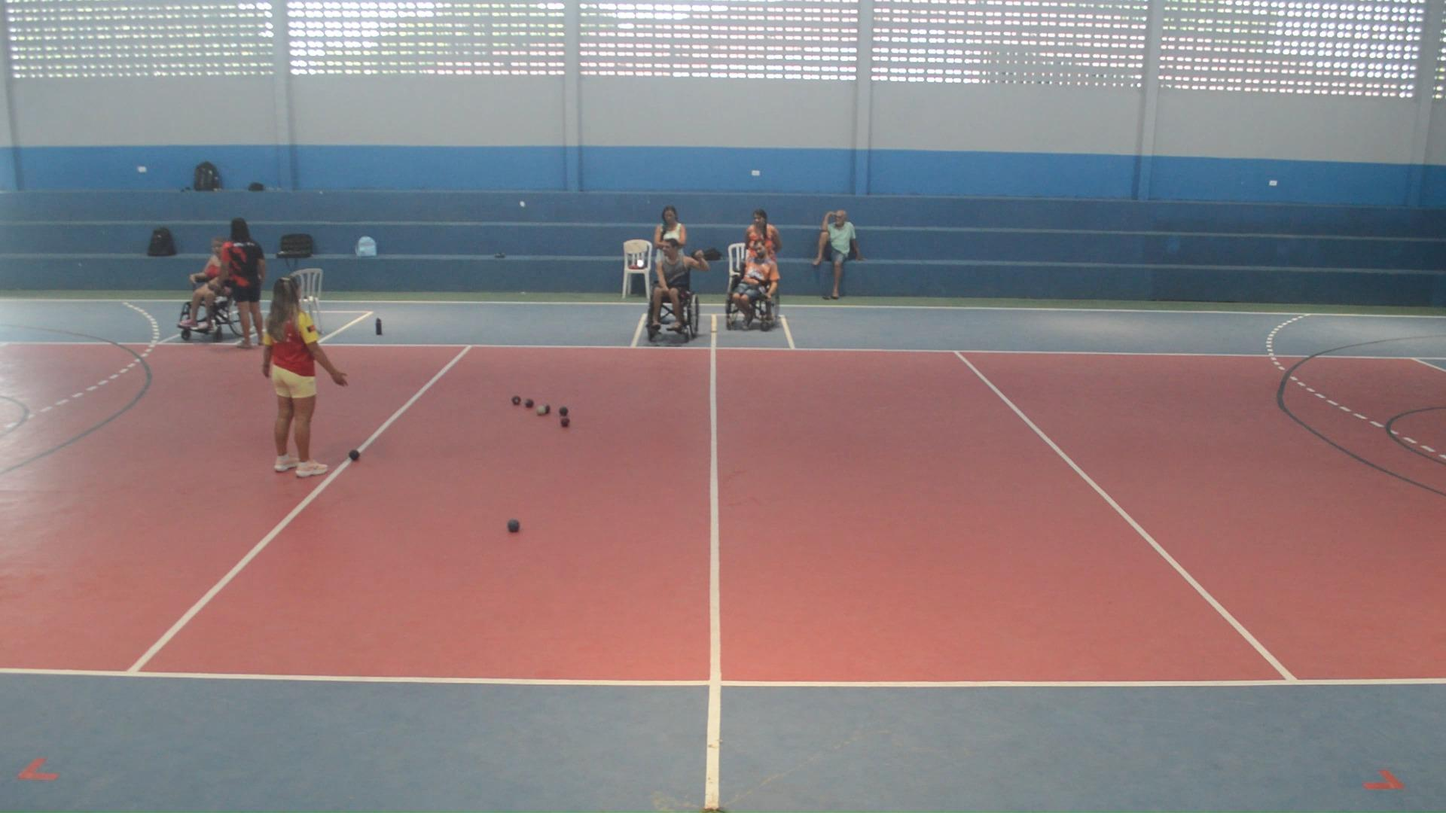blue_ball: (505, 518, 521, 534), (347, 448, 360, 462), (557, 405, 569, 417)
red_ball: (558, 417, 571, 429), (510, 395, 522, 406), (535, 405, 546, 417)
